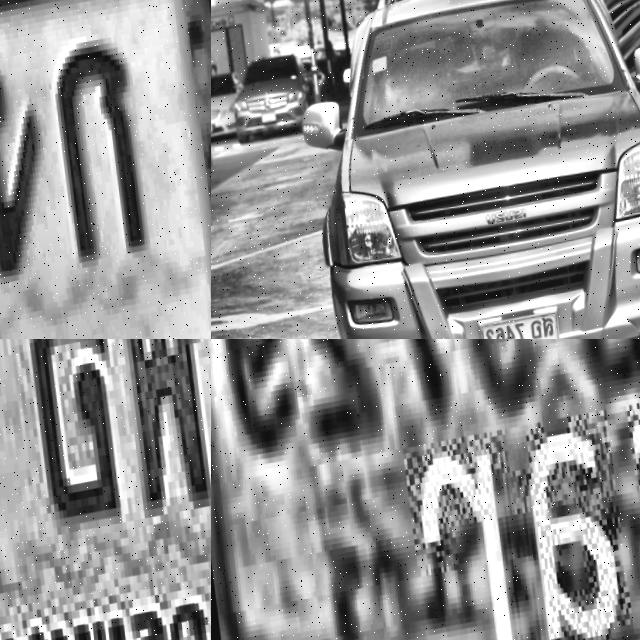license-plate: (211, 339, 640, 640), (0, 0, 211, 339), (0, 339, 211, 640), (472, 308, 558, 339), (258, 110, 274, 127)
